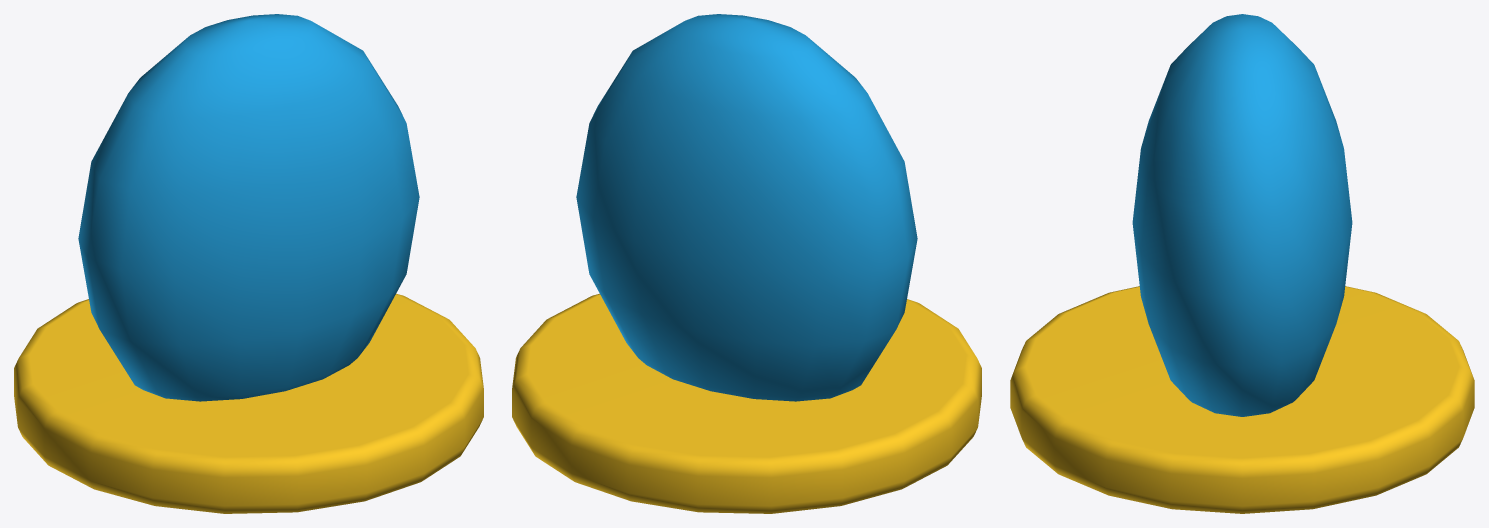
File: COM-POWER-01.glb
3 views of the same model, side by side, from view 1: azimuth 30°, elevation 25°; view 2: azimuth 150°, elevation 25°; view 3: azimuth 270°, elevation 25° (orthographic).
Parts seen in each view (by area): view 1: power core, pickup plinth; view 2: power core, pickup plinth; view 3: power core, pickup plinth.
Part boxes in pixels (x1=…): power core: x1=78, y1=14, x2=419, y2=401; pickup plinth: x1=14, y1=293, x2=483, y2=513; power core: x1=576, y1=14, x2=917, y2=401; pickup plinth: x1=512, y1=293, x2=981, y2=513; power core: x1=1132, y1=14, x2=1352, y2=416; pickup plinth: x1=1010, y1=286, x2=1474, y2=513.
Bounding box in the file's own units: 0.76 × 0.71 × 0.76.
